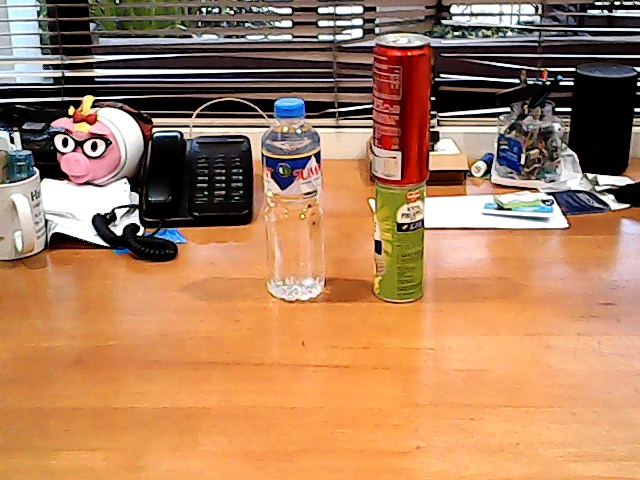Cola: (363, 25, 440, 187)
Pine Juice: (370, 183, 430, 309)
Summit Water: (254, 96, 331, 304)
